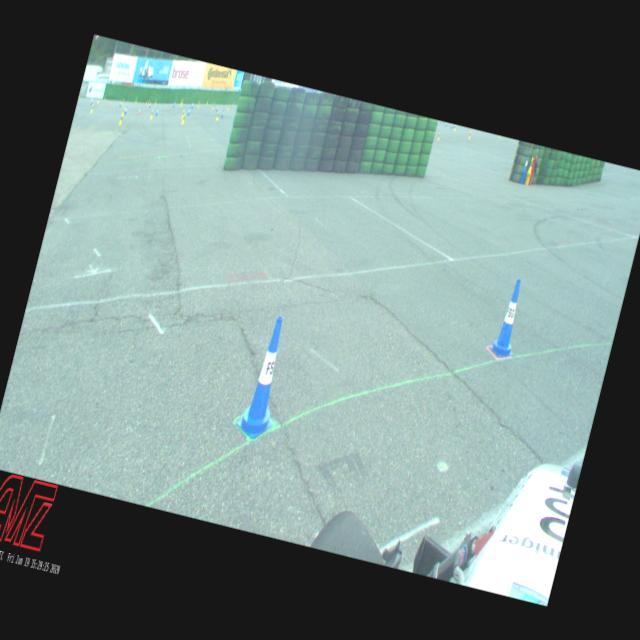blue_cone: (233, 311, 298, 444), (488, 276, 530, 358), (522, 156, 530, 172), (122, 105, 128, 115), (186, 106, 191, 115), (155, 106, 159, 116), (220, 109, 224, 118), (90, 97, 94, 106), (216, 104, 220, 112), (190, 101, 194, 108), (118, 100, 122, 107), (148, 102, 152, 108), (172, 101, 175, 107), (444, 122, 446, 127), (450, 124, 452, 128), (452, 124, 454, 128)
orange_cone: (138, 106, 142, 115), (90, 95, 94, 103), (144, 100, 148, 106)
yellow_cone: (527, 156, 534, 172), (180, 112, 187, 125), (118, 112, 124, 125), (180, 108, 186, 119), (121, 105, 126, 116), (215, 110, 220, 120), (149, 108, 154, 118), (436, 132, 440, 140), (211, 102, 215, 110), (90, 104, 94, 112), (468, 130, 472, 138), (96, 97, 100, 104), (146, 99, 150, 106), (134, 97, 138, 103), (121, 97, 124, 105), (197, 100, 200, 108), (453, 125, 456, 132), (227, 103, 230, 110), (179, 98, 182, 105), (181, 98, 184, 104), (232, 98, 234, 105), (206, 98, 208, 105), (154, 98, 156, 104)
